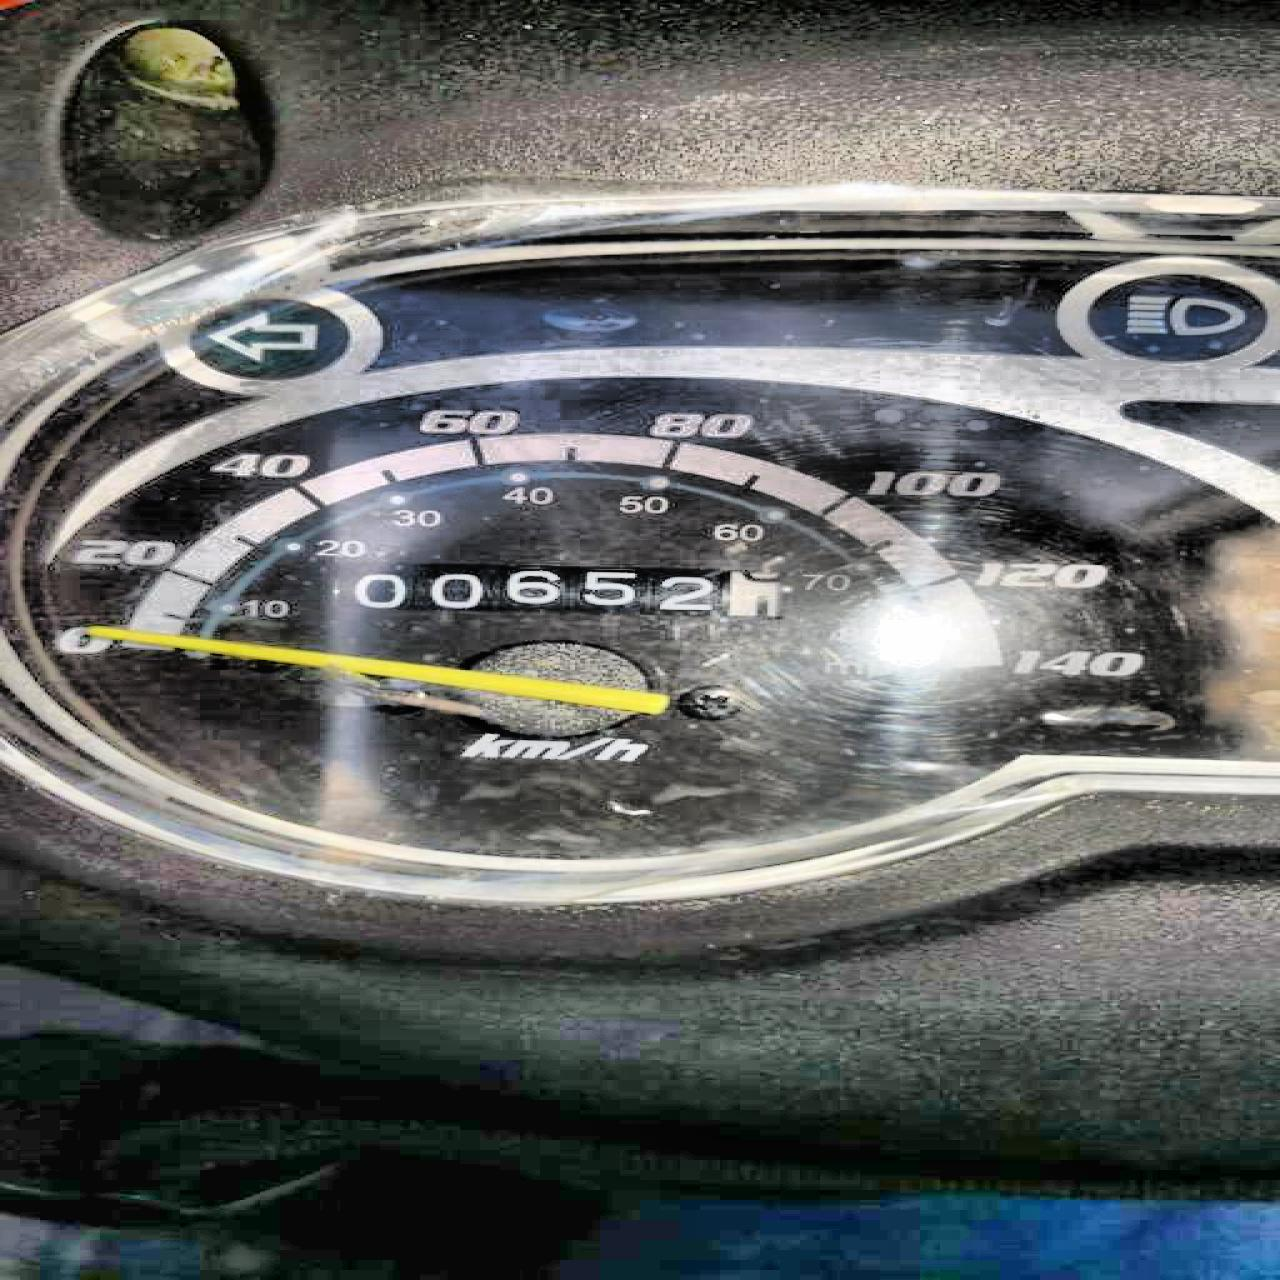0: (350, 572, 406, 607), (428, 572, 483, 607)
1: (750, 592, 770, 621)
2: (655, 576, 713, 610)
5: (580, 570, 635, 604)
6: (502, 568, 560, 602)
odometer: (320, 557, 790, 621)
